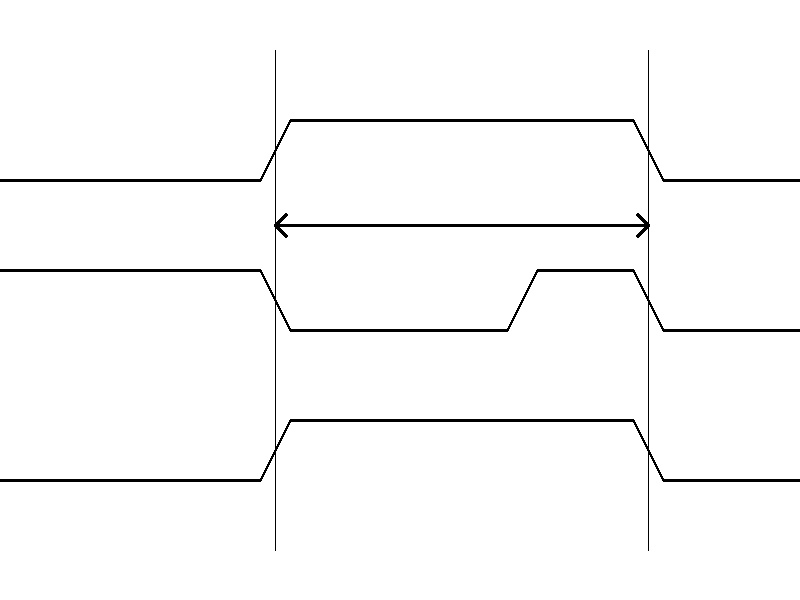double_arrow: (275, 210, 648, 240)
